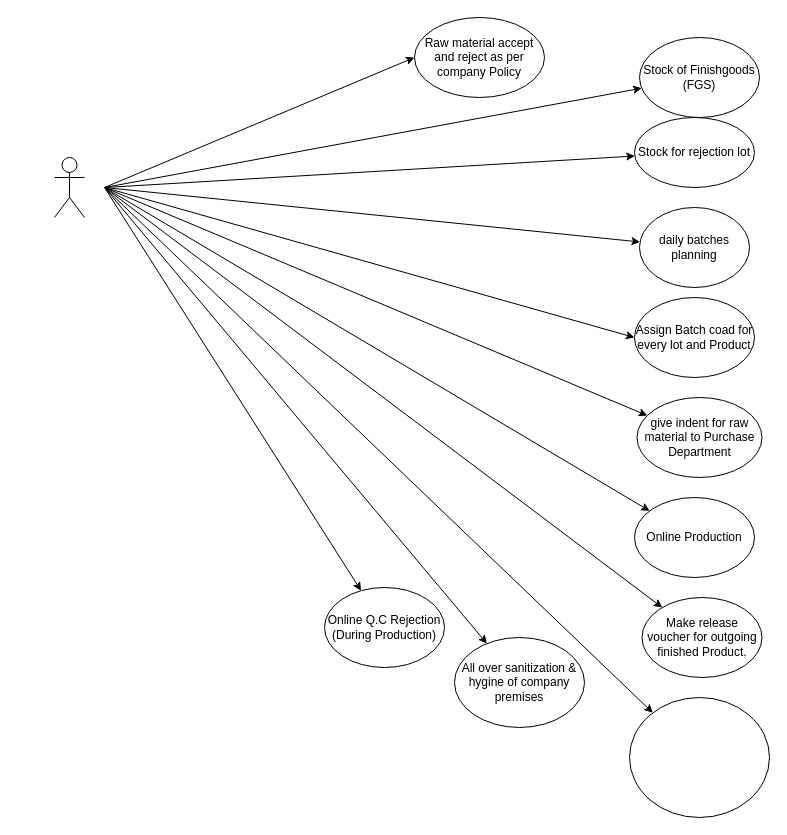
Some shapes in this 787 by 835 pixel diagram are drawn without their labels. Each missing label, with the centre of its shape:
Control Thermal Temprature and all CCP, Sorting & westing of vegetable,Washing: the point at 699,757
Quality control/ Q.A: the point at 69,187
